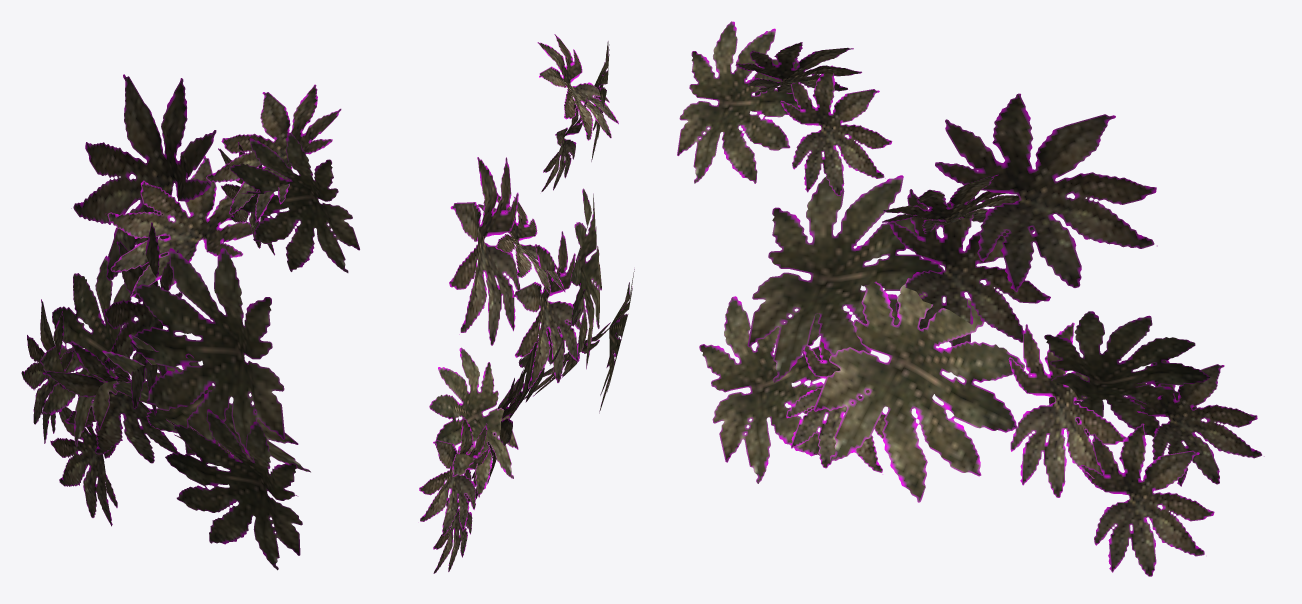
The model's file is tdr_tlv_wallplant_b.obj.
3 views of the same model, side by side, from view 1: azimuth 30°, elevation 25°; view 2: azimuth 150°, elevation 25°; view 3: azimuth 270°, elevation 25° (orthographic). The views are drawn at different scales.
Visible parts, largest first — view 1: tdr_tlv_wallplant_b; view 2: tdr_tlv_wallplant_b; view 3: tdr_tlv_wallplant_b.
Boxes of the visible parts, x1,y1,x2,y2 form: tdr_tlv_wallplant_b: (21, 74, 359, 570); tdr_tlv_wallplant_b: (419, 34, 634, 573); tdr_tlv_wallplant_b: (677, 21, 1264, 576).
Bounding box in the file's own units: 703 × 2370 × 2299.
Materials: 1 (1 with a texture image).
